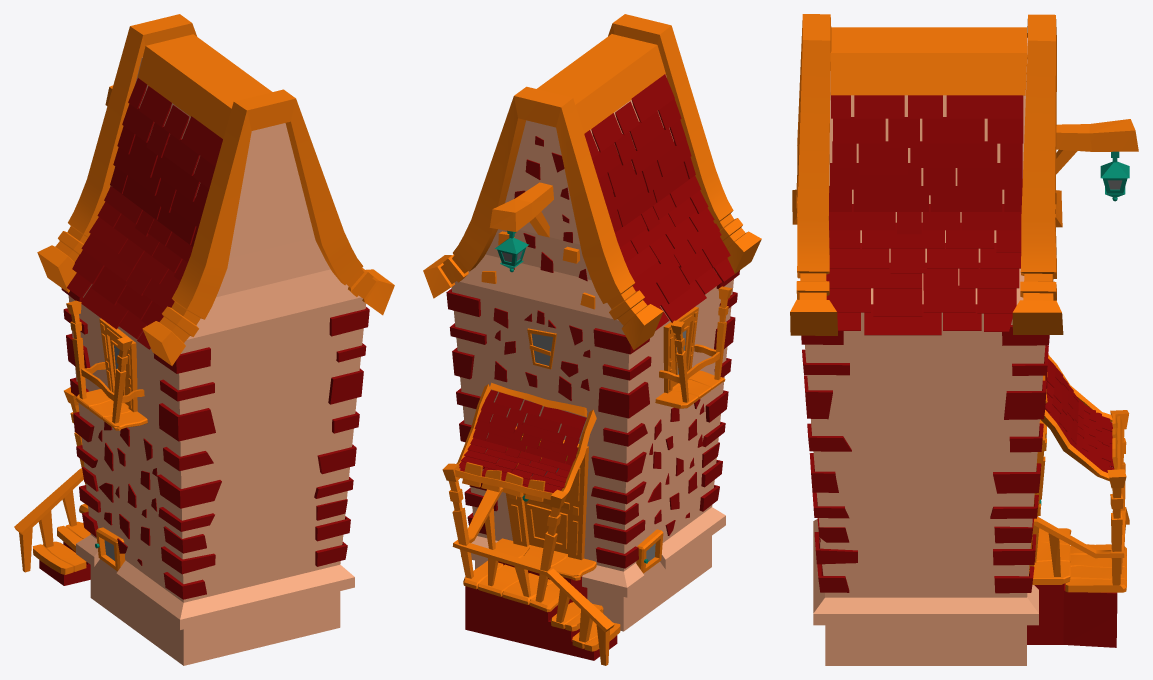
File: House_V.fbx
3 views of the same model, side by side, from view 1: azimuth 30°, elevation 25°; view 2: azimuth 150°, elevation 25°; view 3: azimuth 270°, elevation 25° (orthographic). The views are drawn at different scales.
Parts seen in each view (by area): view 1: Object133, Bois, Pierre; view 2: Bois, Pierre, Object133, Verre, Metal; view 3: Object133, Pierre, Bois, Metal.
Boxes of the visible parts, x1=… form: Object133: x1=68, y1=57, x2=365, y2=665; Bois: x1=14, y1=14, x2=394, y2=574; Pierre: x1=39, y1=78, x2=369, y2=599; Bois: x1=423, y1=14, x2=761, y2=665; Pierre: x1=446, y1=74, x2=739, y2=660; Object133: x1=451, y1=75, x2=733, y2=631; Verre: x1=502, y1=250, x2=686, y2=561; Metal: x1=495, y1=230, x2=648, y2=563; Object133: x1=805, y1=37, x2=1045, y2=665; Pierre: x1=801, y1=95, x2=1117, y2=647; Bois: x1=790, y1=14, x2=1138, y2=592; Metal: x1=1039, y1=151, x2=1129, y2=505.
Bounding box in the file's own units: 61.28 × 71.66 × 135.
